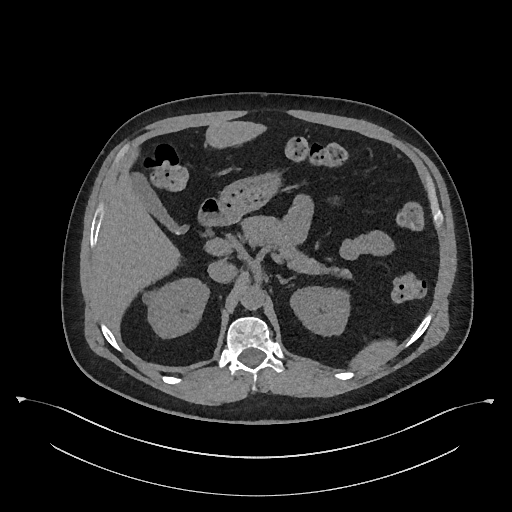Lesion: (139, 287, 160, 308)
